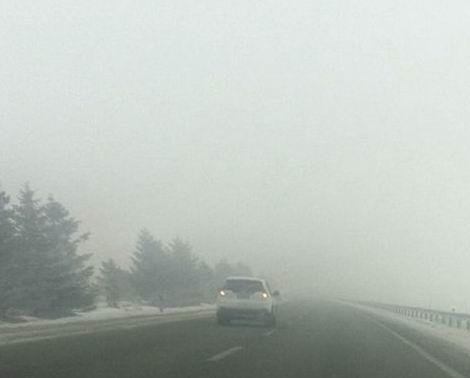car: (215, 277, 282, 327)
